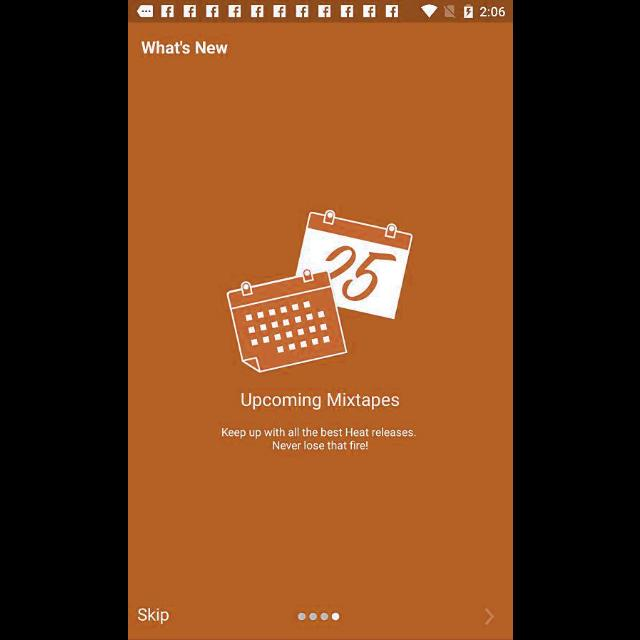icon: (483, 608, 495, 626)
image: (224, 209, 412, 373)
pageindicator: (296, 610, 340, 622)
text: (220, 427, 416, 451), (240, 392, 400, 412), (140, 40, 228, 54), (136, 606, 170, 626)
uppertaskbar: (128, 1, 512, 23)
